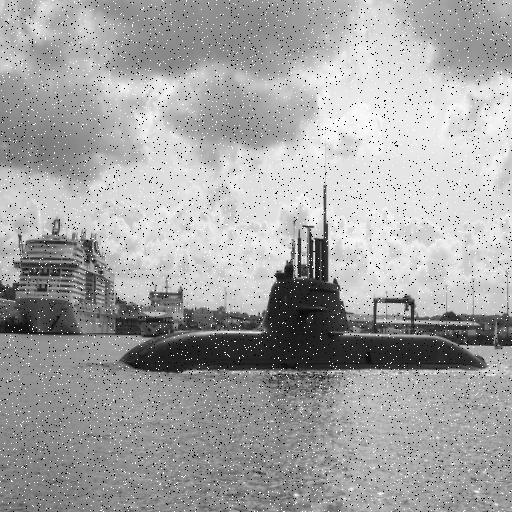submarine: (114, 177, 512, 367)
